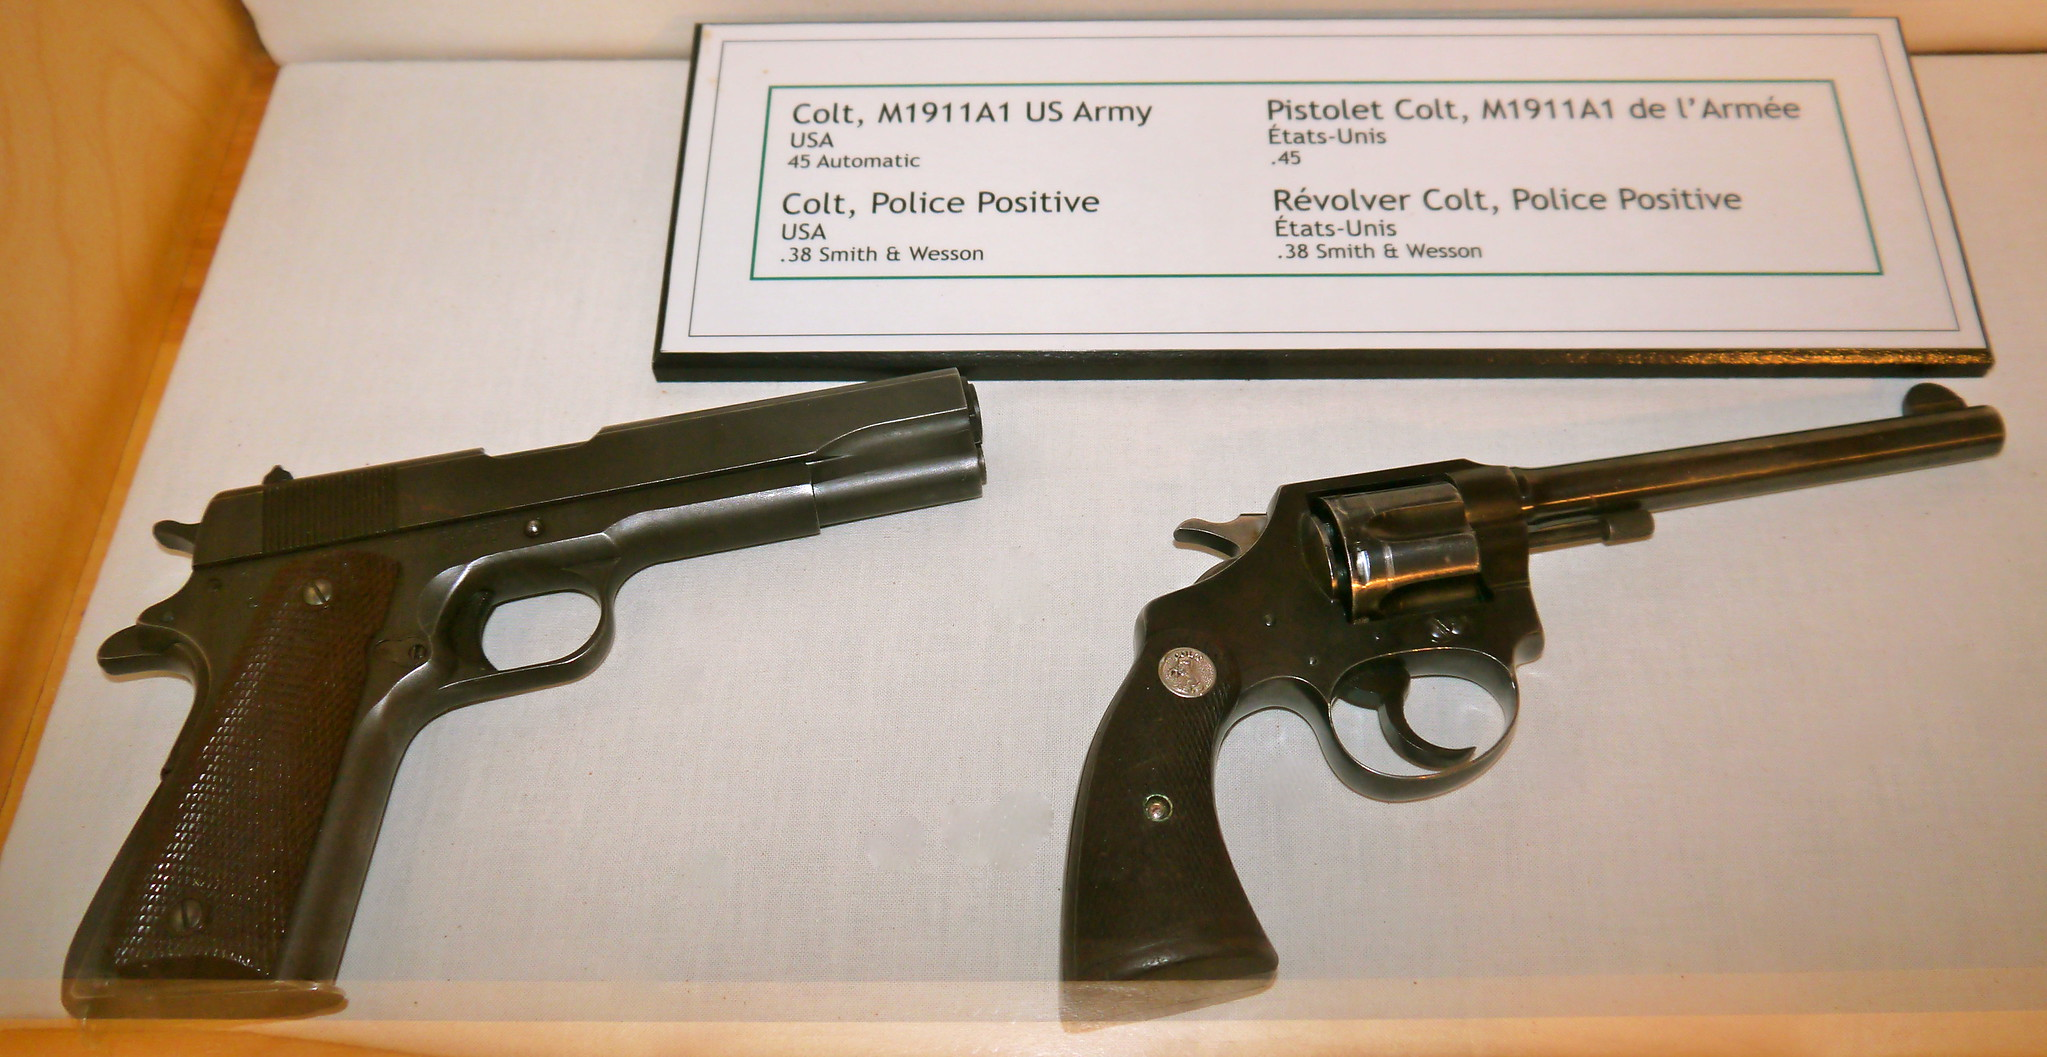gun: (58, 355, 999, 1031), (1020, 382, 2028, 1007)
